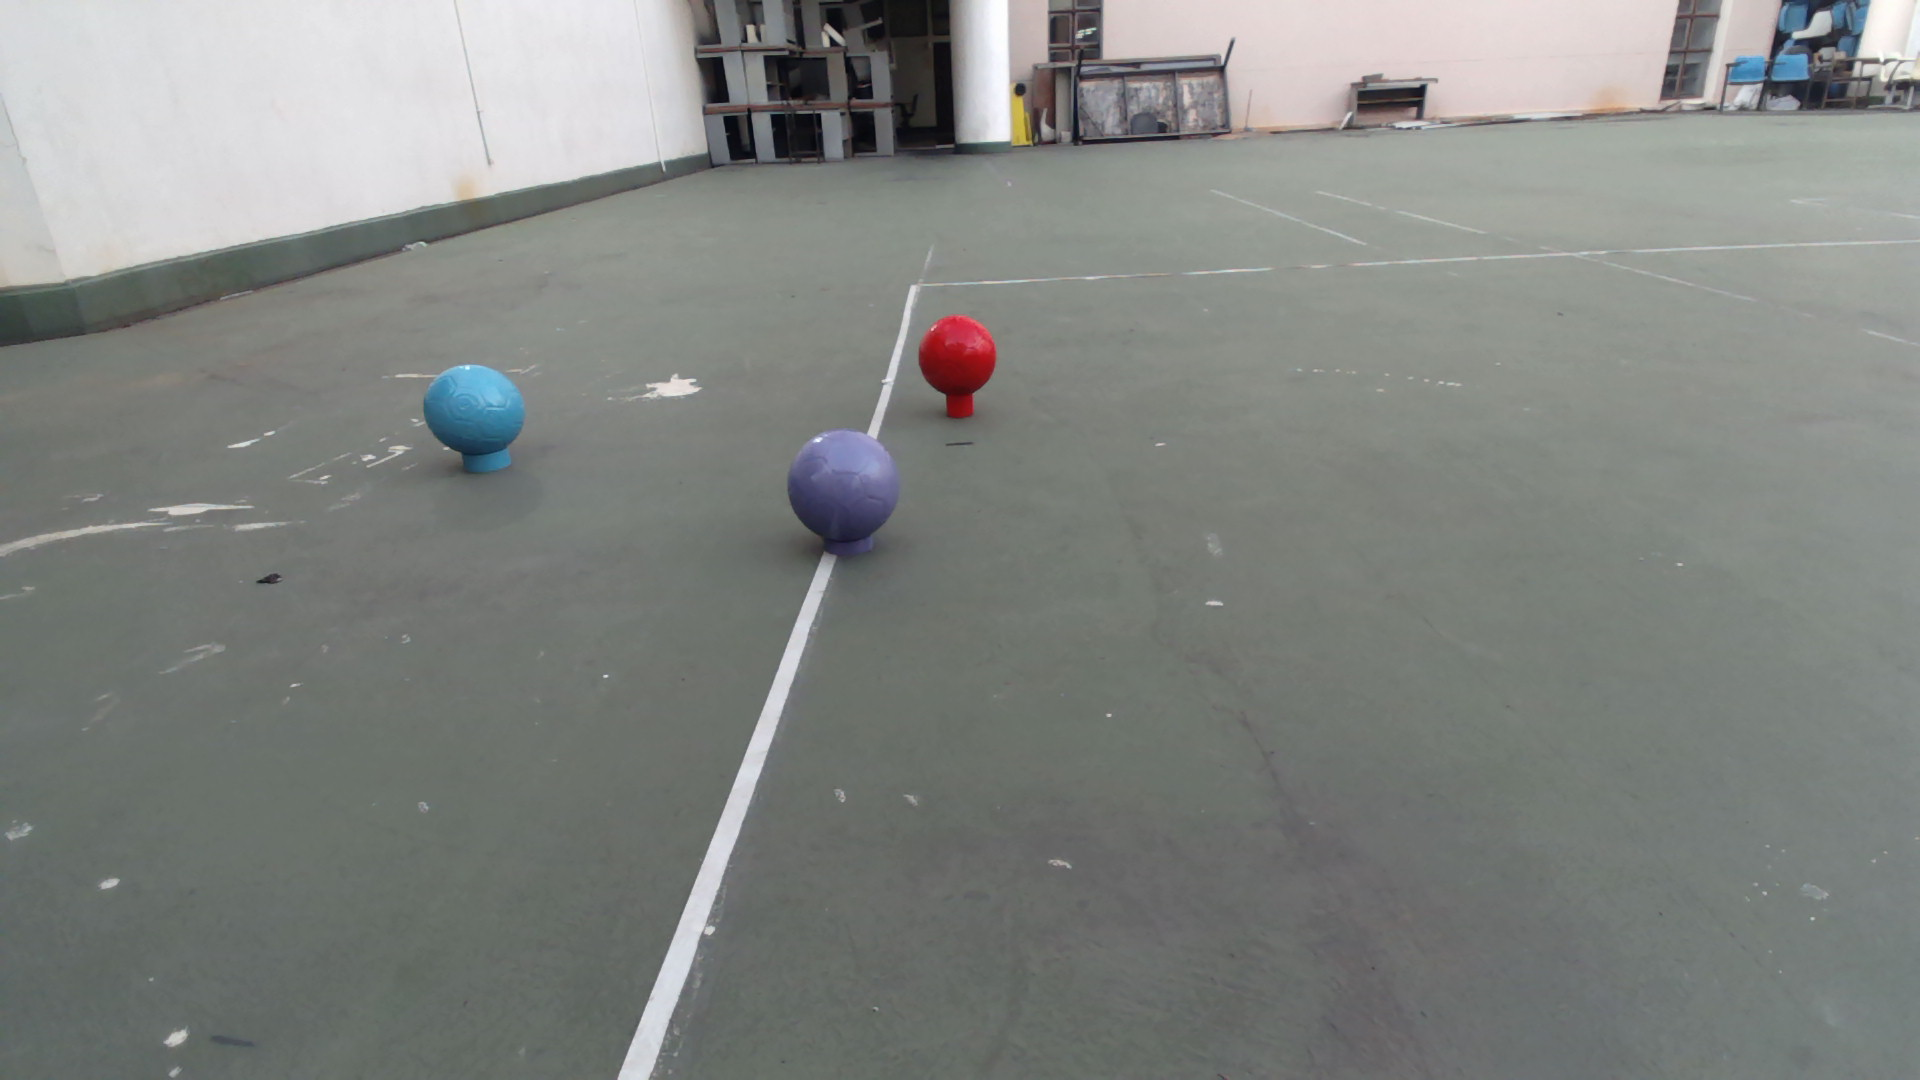Blue ball: (422, 363, 527, 458)
Purple ball: (785, 427, 901, 545)
Red ball: (915, 313, 1000, 398)
